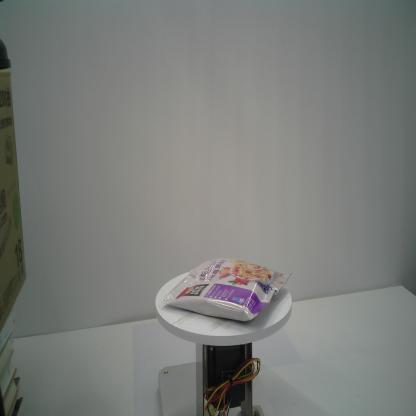Instant Drink: (161, 257, 292, 321)
